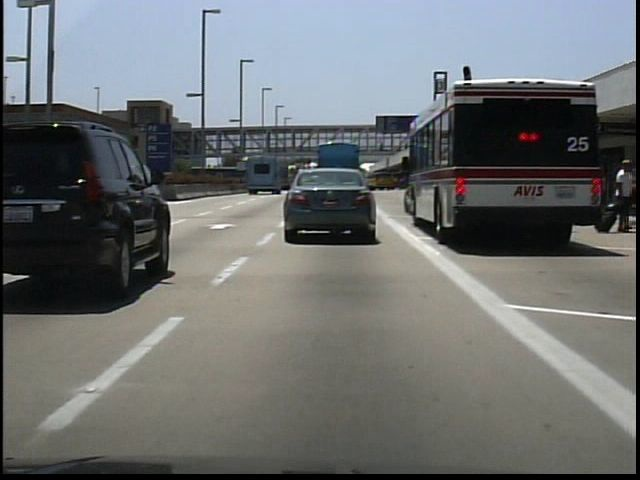person: (607, 153, 634, 238), (376, 137, 389, 157)
